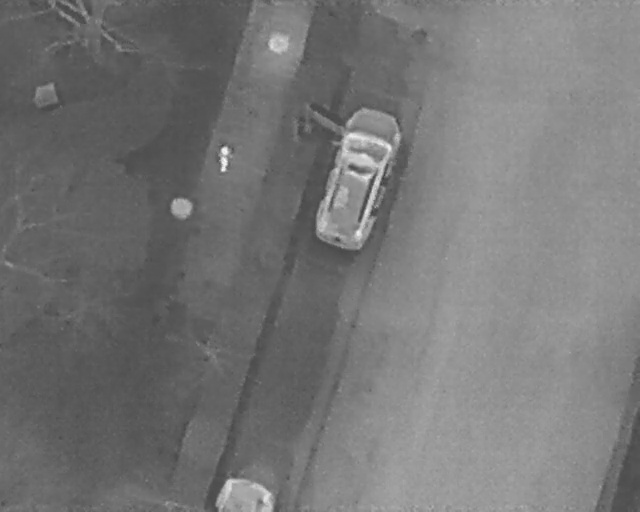Car: (307, 101, 405, 256)
Person: (218, 142, 231, 176)
